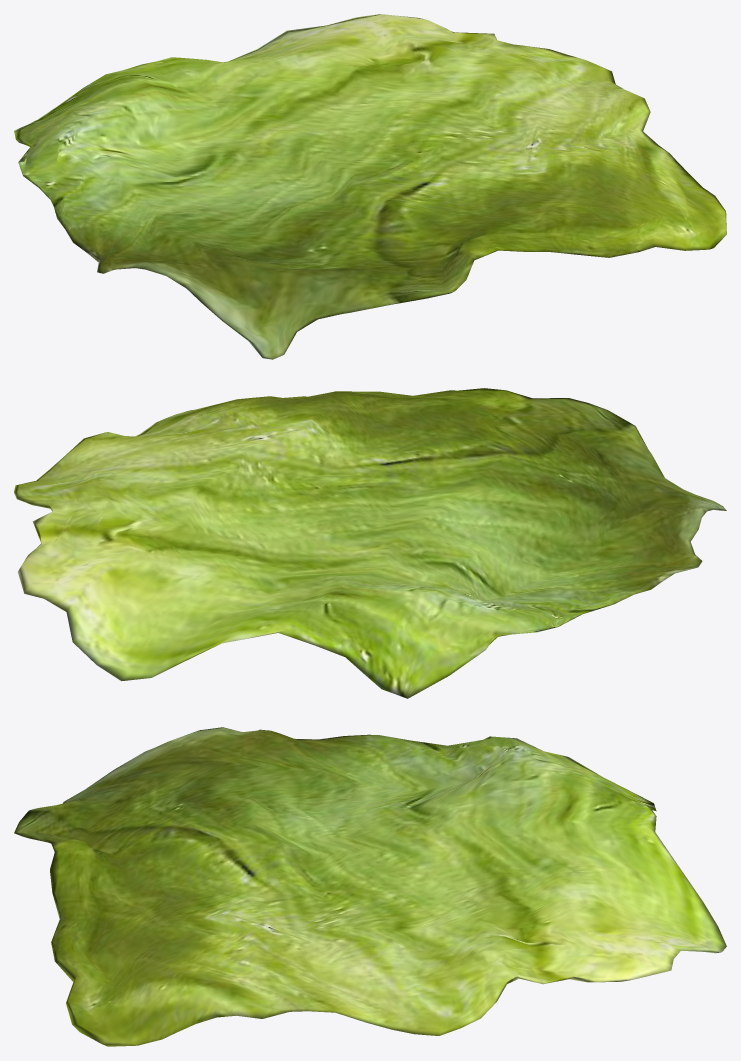
File: Lettuce_Visual.fbx
The picture shows the model from 3 angles, top to bottom: view 1: azimuth 30°, elevation 25°; view 2: azimuth 150°, elevation 25°; view 3: azimuth 270°, elevation 25°; orthographic projection. The views are drawn at different scales.
Visible parts, largest first — view 1: Lettuce; view 2: Lettuce; view 3: Lettuce.
Boxes of the visible parts, x1,y1,x2,y2 form: Lettuce: (14, 14, 726, 359); Lettuce: (14, 388, 726, 698); Lettuce: (14, 727, 726, 1046).
Bounding box in the file's own units: 13.68 × 1.57 × 13.73.
1 material, 1 textured.
